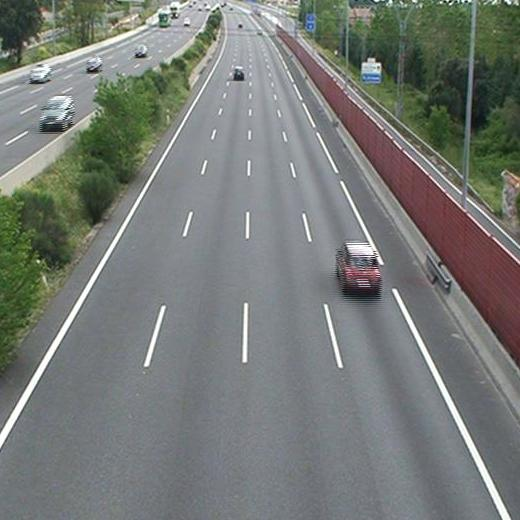car: (337, 243, 382, 290), (233, 67, 245, 79)
